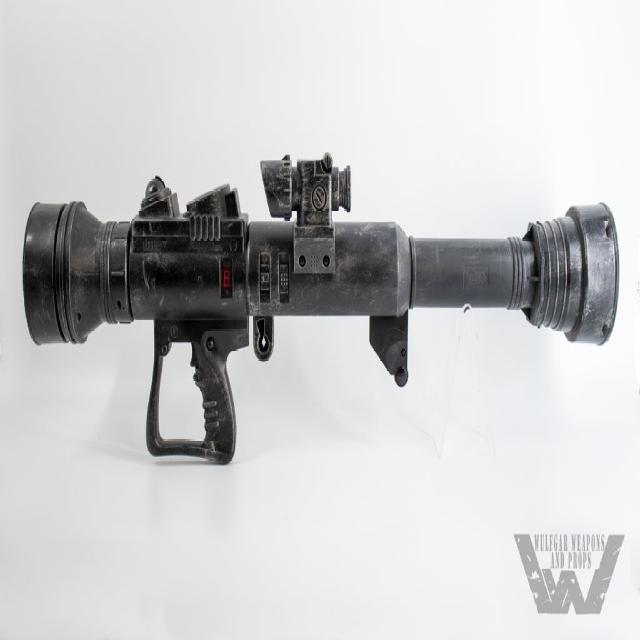bazooka: (11, 126, 629, 542)
